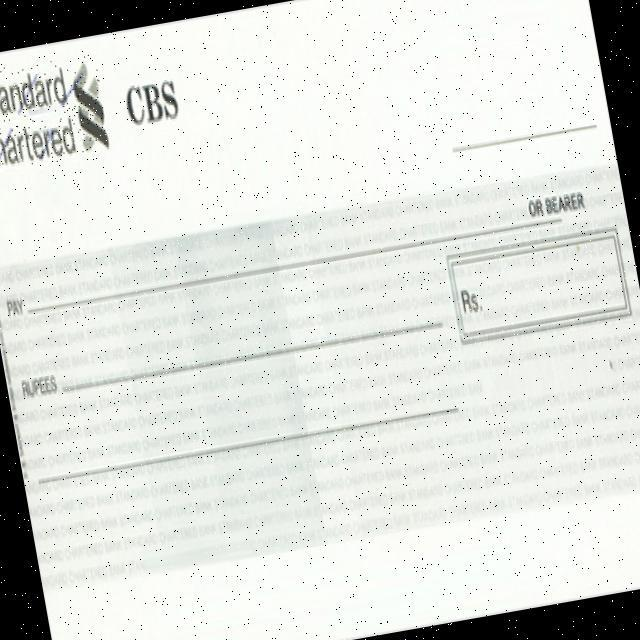Standard Chartered: (0, 51, 111, 174)
